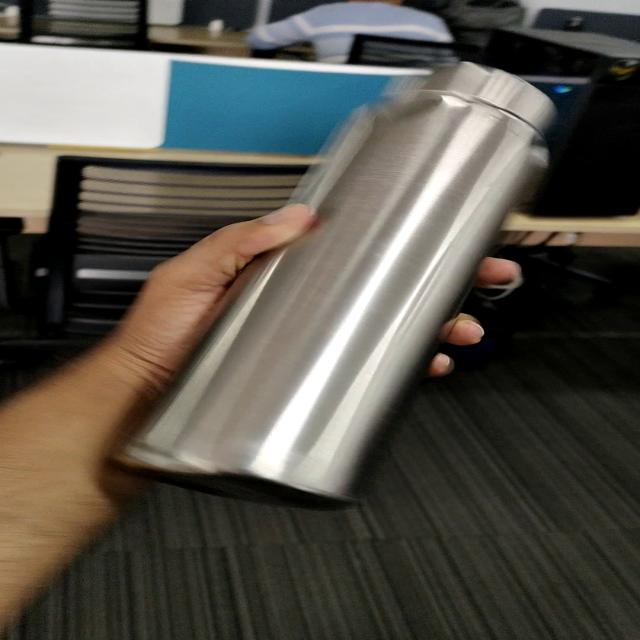bottle: (105, 59, 557, 507)
